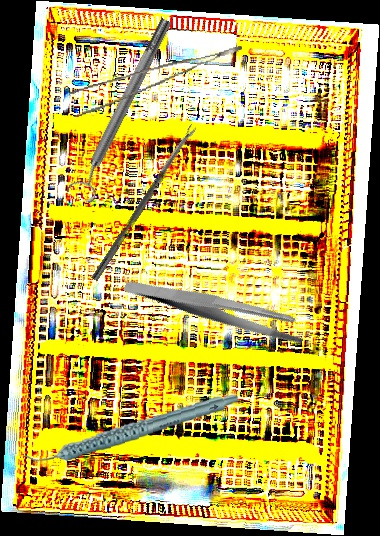Dressing Forceps: (122, 236, 311, 381)
Fixation Ring: (63, 13, 183, 205)
Handpiece: (20, 392, 243, 464)
Surgical Spoon: (91, 124, 198, 282)
Tissue Forceps: (66, 45, 249, 118)
